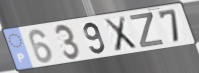3: (55, 22, 81, 62)
6: (27, 28, 56, 65)
7: (157, 8, 181, 44)
9: (83, 22, 106, 55)
X: (102, 15, 139, 54)
Z: (128, 12, 166, 50)
